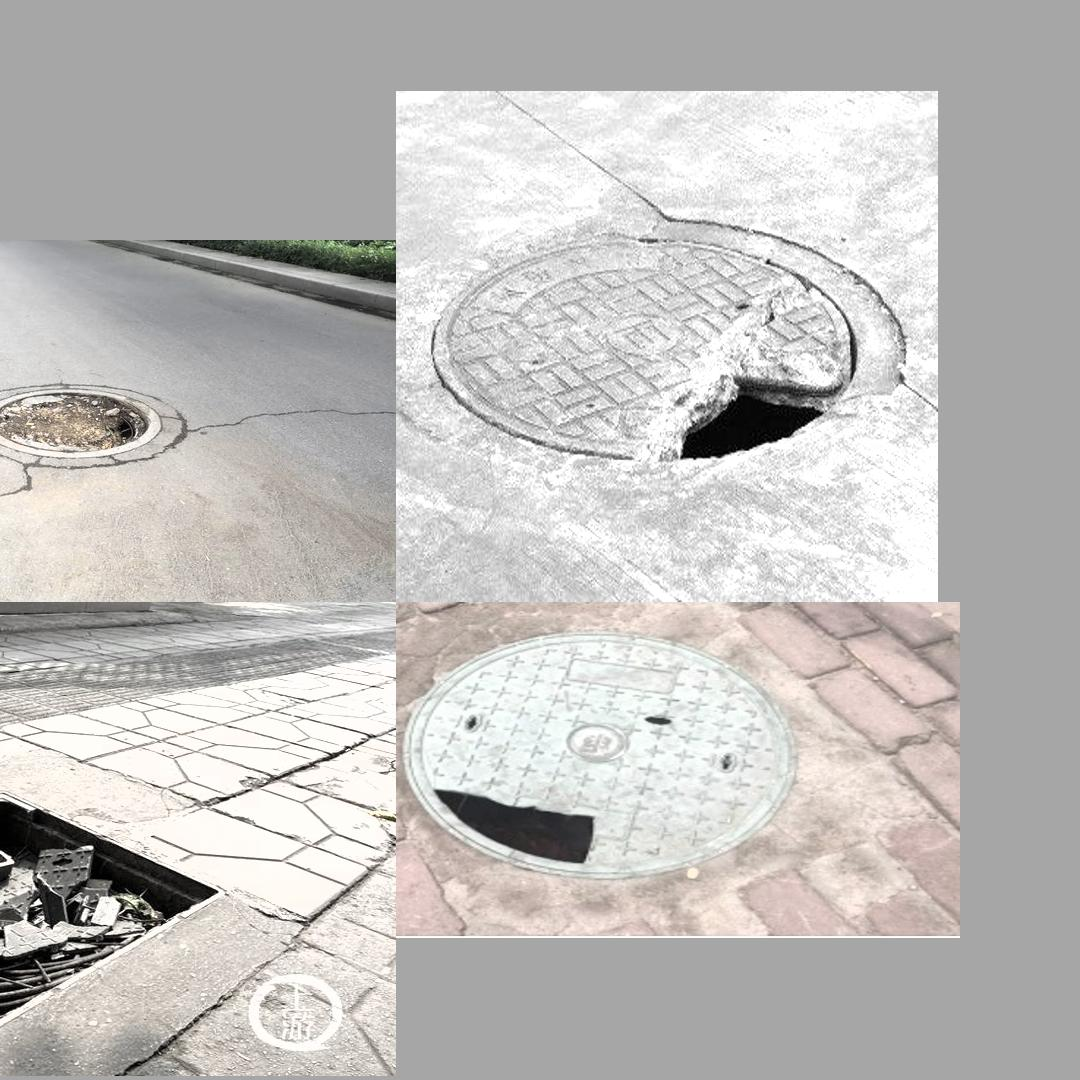broke: (0, 757, 344, 1070), (429, 216, 844, 458), (424, 637, 789, 869), (0, 371, 200, 474)
